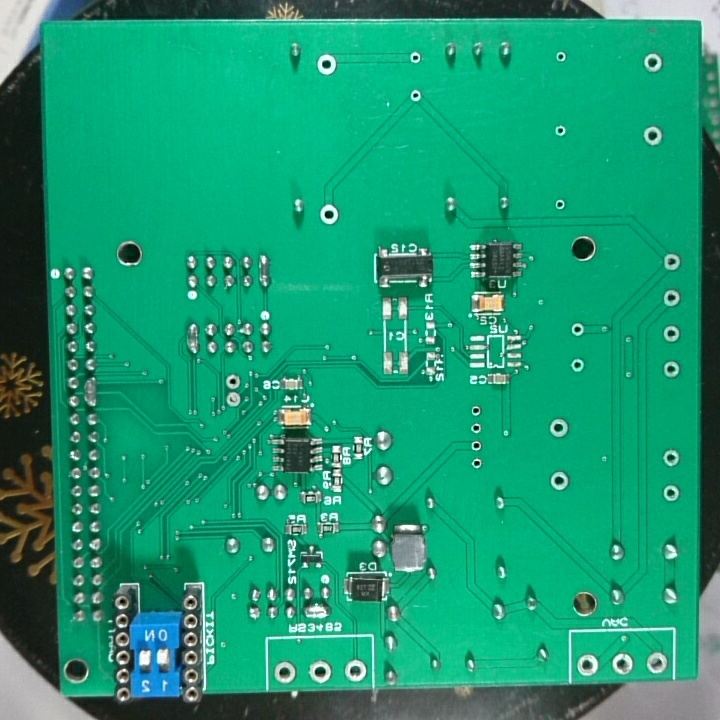F: (574, 649, 601, 678), (341, 658, 368, 686), (271, 658, 298, 686), (305, 658, 332, 685), (642, 649, 668, 677), (640, 123, 665, 149), (609, 650, 634, 675), (314, 52, 339, 76), (659, 358, 683, 382), (642, 50, 664, 76), (548, 415, 570, 441), (547, 469, 571, 492), (660, 446, 681, 472), (660, 249, 682, 273), (317, 203, 342, 224), (660, 483, 682, 505), (660, 286, 680, 309), (661, 322, 681, 343), (467, 401, 487, 422), (223, 370, 242, 390), (224, 389, 242, 410), (568, 318, 585, 340), (568, 354, 585, 376), (551, 195, 569, 215), (466, 435, 485, 453), (407, 87, 424, 107), (467, 418, 484, 436), (467, 455, 484, 472), (551, 122, 569, 138), (406, 49, 422, 66), (553, 49, 568, 66)
P: (256, 251, 274, 290), (79, 377, 100, 409), (185, 320, 202, 357), (302, 602, 331, 621)
